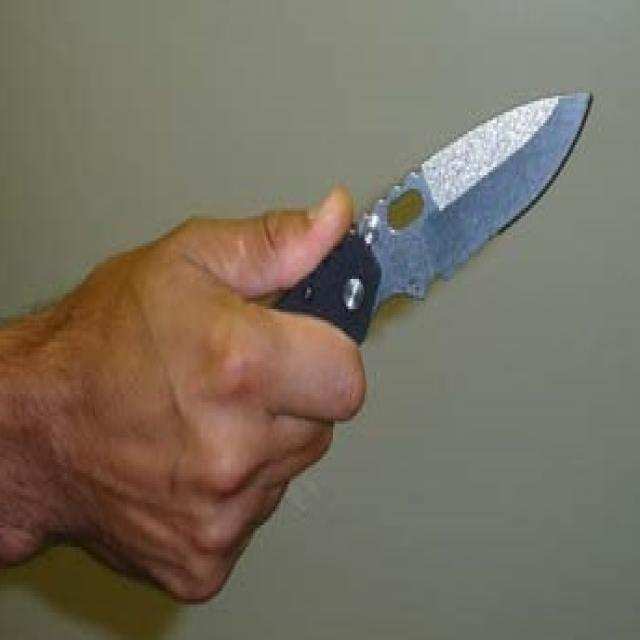knife: (279, 85, 599, 355)
